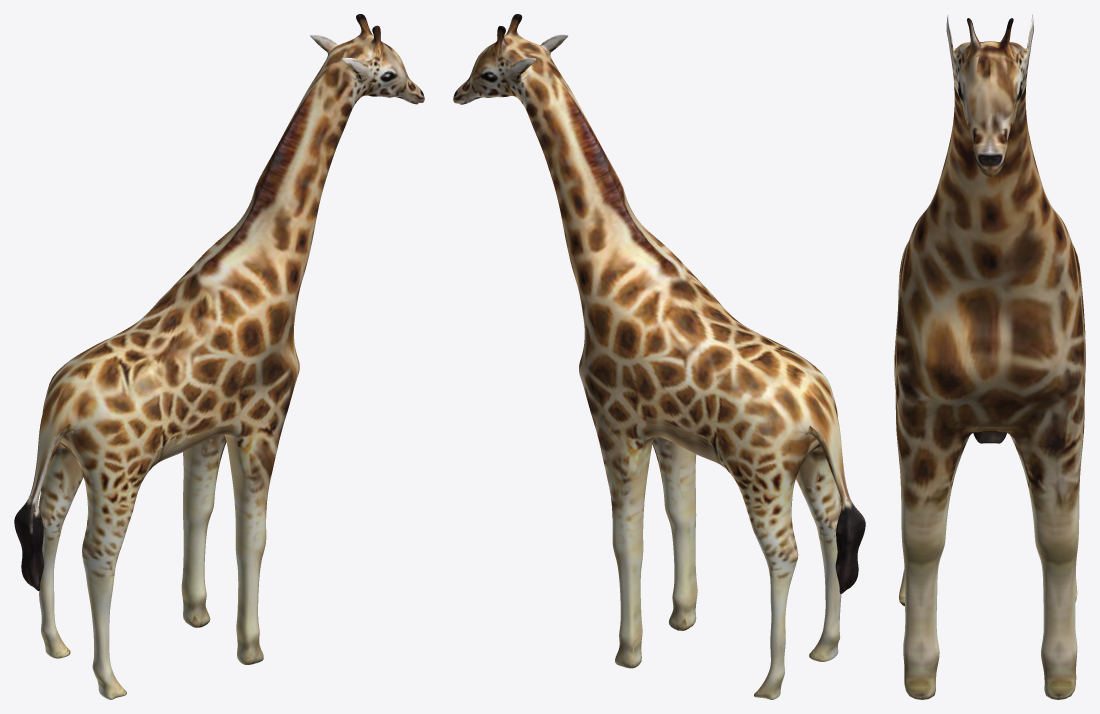
Rendered from Giraffe.fbx.
The picture shows the model from 3 angles, left to right: view 1: azimuth 30°, elevation 25°; view 2: azimuth 150°, elevation 25°; view 3: azimuth 270°, elevation 25°; orthographic projection. The views are drawn at different scales.
Parts seen in each view (by area): view 1: Cube; view 2: Cube; view 3: Cube.
Part boxes in pixels (x1,y1,x2,y2): Cube: (14, 14, 424, 699); Cube: (453, 14, 865, 699); Cube: (894, 14, 1085, 699).
Bounding box in the file's own units: 6.07 × 8.49 × 1.92.
